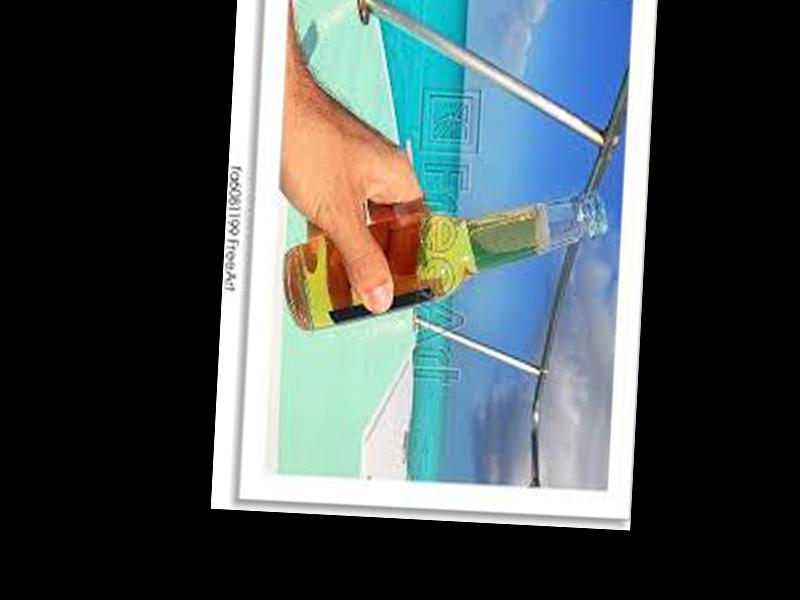Beer: (284, 167, 607, 348)
